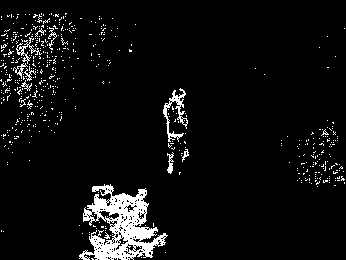person: (164, 87, 188, 175)
